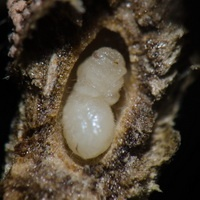insect: (60, 46, 127, 161), (62, 47, 126, 158)
